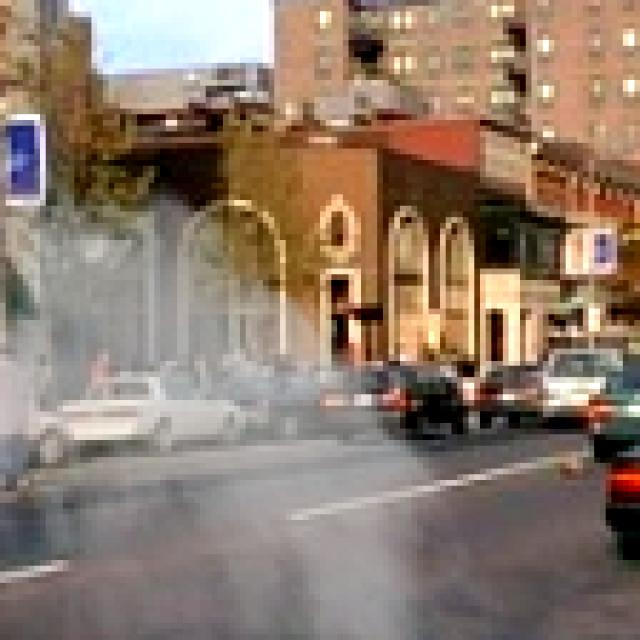smoke: (0, 137, 520, 640)
